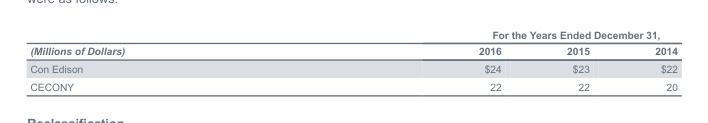table: (29, 28, 676, 92)
table column: (29, 28, 301, 92), (301, 28, 533, 92), (533, 28, 621, 92), (621, 28, 676, 92)
table column header: (29, 28, 676, 59)
table row: (29, 59, 676, 77), (29, 42, 676, 59), (29, 77, 676, 92), (29, 28, 676, 42)
table spanning cell: (29, 28, 301, 59), (301, 28, 676, 42)
